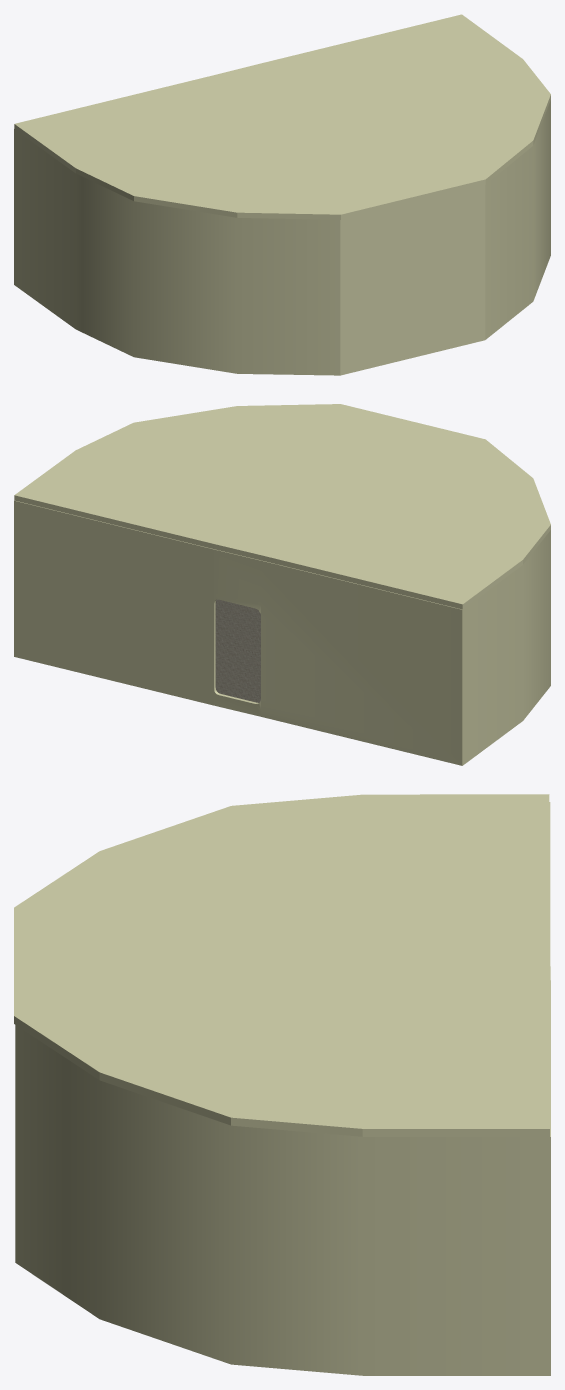
The model's file is steeringGearRoom.fbx.
3 views of the same model, one above another, from view 1: azimuth 30°, elevation 25°; view 2: azimuth 150°, elevation 25°; view 3: azimuth 270°, elevation 25° (orthographic). The views are drawn at different scales.
Visible parts, largest first — view 1: steeringGearRoom, steeringGearRoom_roof; view 2: steeringGearRoom, steeringGearRoom_roof; view 3: steeringGearRoom_roof, steeringGearRoom.
Boxes of the visible parts, x1,y1,x2,y2 form: steeringGearRoom: (14,100,550,375); steeringGearRoom_roof: (14,14,550,219); steeringGearRoom: (14,500,550,765); steeringGearRoom_roof: (14,404,550,609); steeringGearRoom_roof: (14,794,549,1136); steeringGearRoom: (15,802,550,1375).
Bounding box in the file's own units: 901 × 310 × 611.
